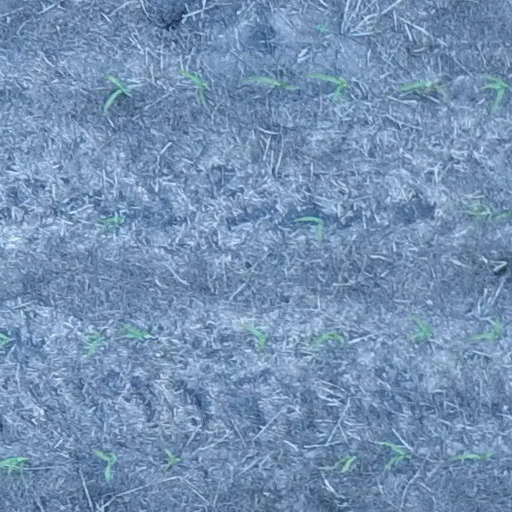planta: (304, 68, 352, 104), (393, 76, 452, 105), (174, 66, 212, 107), (100, 70, 133, 112), (379, 437, 414, 473), (466, 313, 505, 345), (242, 72, 300, 93), (317, 450, 364, 475), (237, 321, 270, 354), (294, 213, 326, 246), (91, 446, 118, 484), (407, 311, 435, 344), (446, 447, 497, 464), (306, 329, 347, 350), (82, 326, 106, 360), (118, 320, 151, 342), (100, 211, 128, 234), (161, 446, 184, 470)
